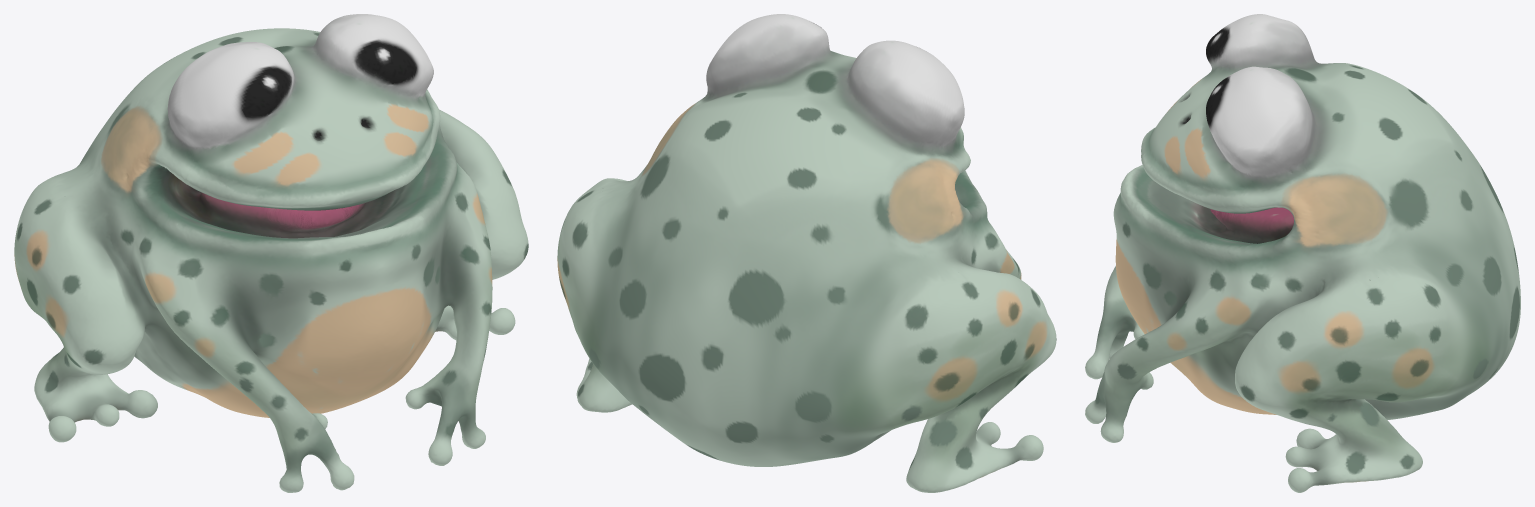
Rendered from MrFrog.glb.
3 renders of one model, left to right at view 1: azimuth 30°, elevation 25°; view 2: azimuth 150°, elevation 25°; view 3: azimuth 270°, elevation 25°, orthographic. The views are drawn at different scales.
Parts seen in each view (by area): view 1: MrFrog; view 2: MrFrog; view 3: MrFrog.
Part boxes in pixels (x1,y1,x2,y2): MrFrog: [14, 14, 528, 492]; MrFrog: [557, 14, 1056, 492]; MrFrog: [1085, 14, 1520, 492].
Bounding box in the file's own units: 1.17 × 0.9202 × 1.02.
